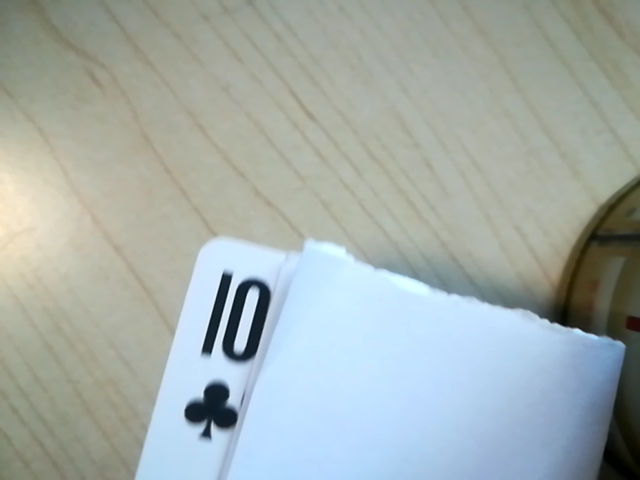mh 10: (178, 258, 292, 440)
